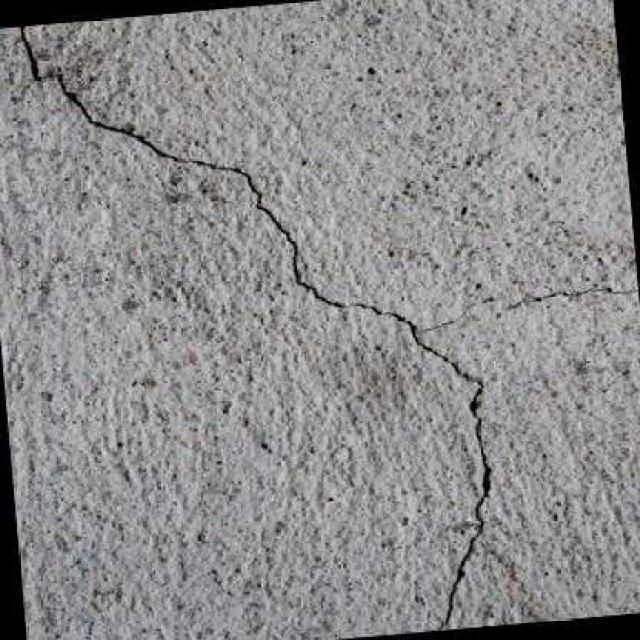D00: (19, 24, 492, 632)
